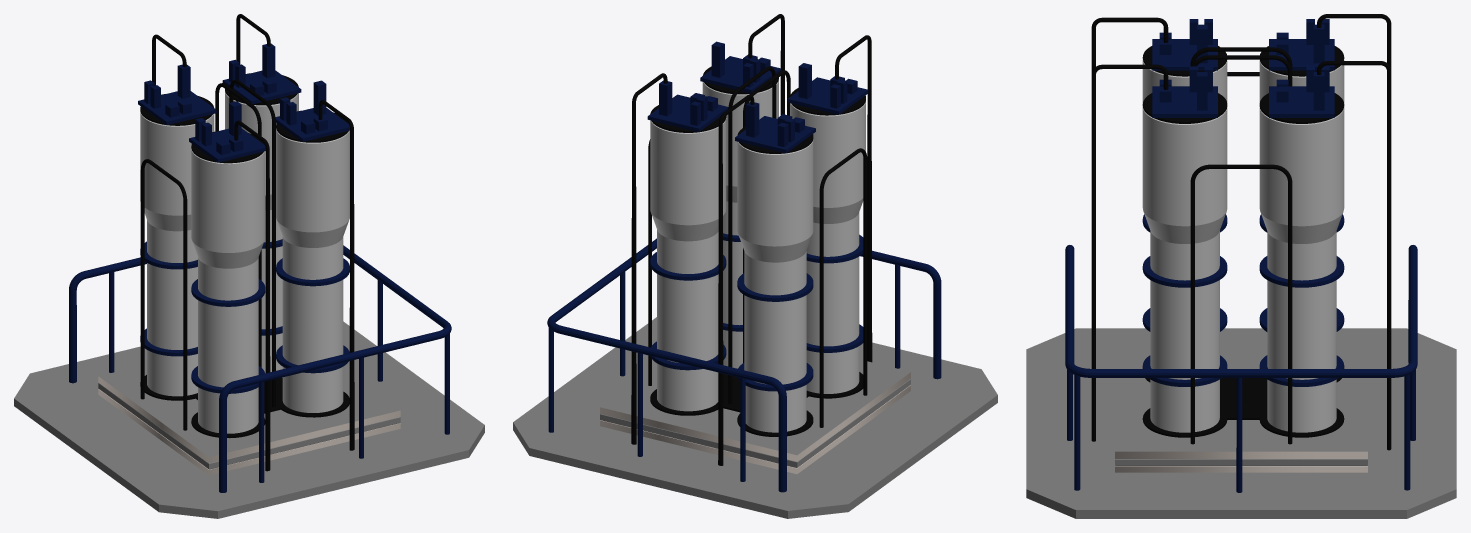
3 views of the same model, side by side, from view 1: azimuth 30°, elevation 25°; view 2: azimuth 150°, elevation 25°; view 3: azimuth 270°, elevation 25° (orthographic). The views are drawn at different scales.
Parts seen in each view (by area): view 1: polySurface19, polySurface6, polySurface18, New_QP_PolyPipe_15, polySurface7, Object725; view 2: polySurface19, polySurface6, New_QP_PolyPipe_15, polySurface18, polySurface7, Object725; view 3: polySurface19, polySurface6, polySurface18, New_QP_PolyPipe_15, polySurface7, Object725, pCylinder4.
Part boxes in pixels (x1,y1,x2,y2): polySurface19: [140, 91, 349, 433]; polySurface6: [14, 321, 484, 518]; polySurface18: [109, 43, 449, 482]; New_QP_PolyPipe_15: [140, 14, 354, 471]; polySurface7: [98, 364, 400, 475]; Object725: [69, 245, 451, 492]; polySurface19: [650, 79, 865, 432]; polySurface6: [513, 317, 997, 518]; New_QP_PolyPipe_15: [631, 14, 872, 465]; polySurface18: [548, 41, 900, 481]; polySurface7: [600, 359, 910, 474]; Object725: [547, 238, 941, 492]; polySurface19: [1142, 59, 1344, 432]; polySurface6: [1026, 328, 1456, 518]; polySurface18: [1067, 19, 1415, 492]; New_QP_PolyPipe_15: [1091, 14, 1391, 450]; polySurface7: [1115, 344, 1367, 472]; Object725: [1065, 245, 1417, 377]; pCylinder4: [1259, 355, 1344, 386].
Bounding box in the file's own units: 190 × 190 × 194.
